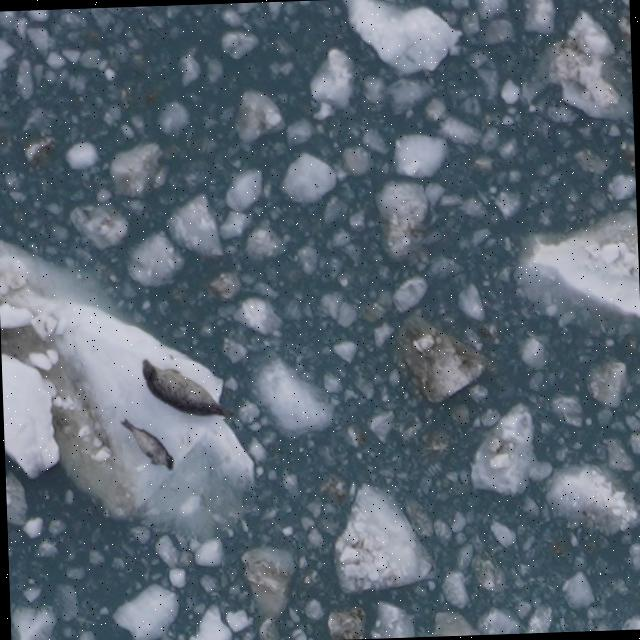seal: (137, 353, 233, 421), (116, 413, 177, 475)
